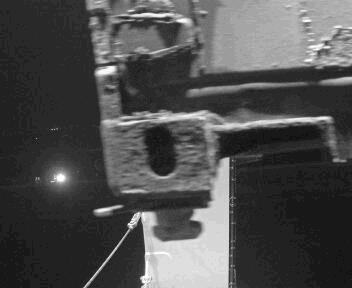twist_lock_1: (110, 192, 215, 257)
